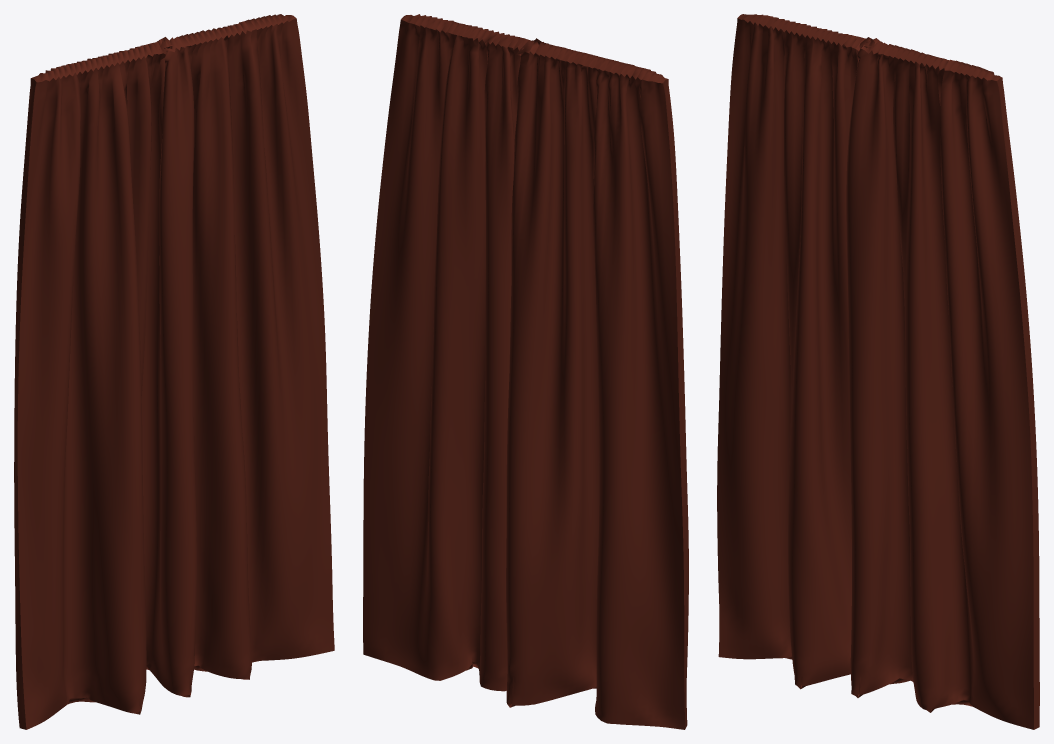
File: red curtain.fbx
3 renders of one model, left to right at view 1: azimuth 30°, elevation 25°; view 2: azimuth 150°, elevation 25°; view 3: azimuth 330°, elevation 25°, orthographic.
Parts seen in each view (by area): view 1: yellow_curtain2; view 2: yellow_curtain2; view 3: yellow_curtain2.
Boxes of the visible parts, box(x1,y1,x2,y2) form: yellow_curtain2: box(14, 14, 334, 729); yellow_curtain2: box(363, 14, 688, 729); yellow_curtain2: box(717, 14, 1039, 729).
Bounding box in the file's own units: 29.1 × 57.25 × 7.44.
